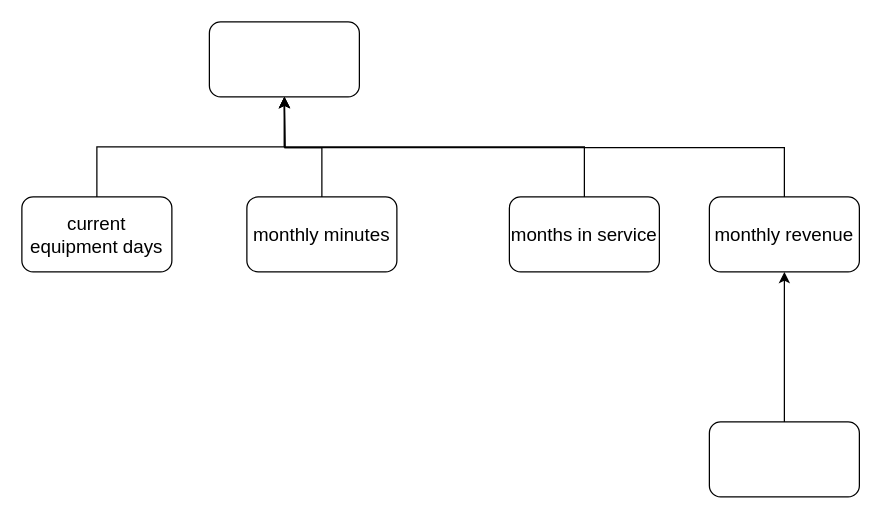
Image size: 881x519. Some labels were removed from this diagram. The centre of each missing label's shape, as x and y in pixels:
churn: the point at 283,59
total recurring charge: the point at 783,459
